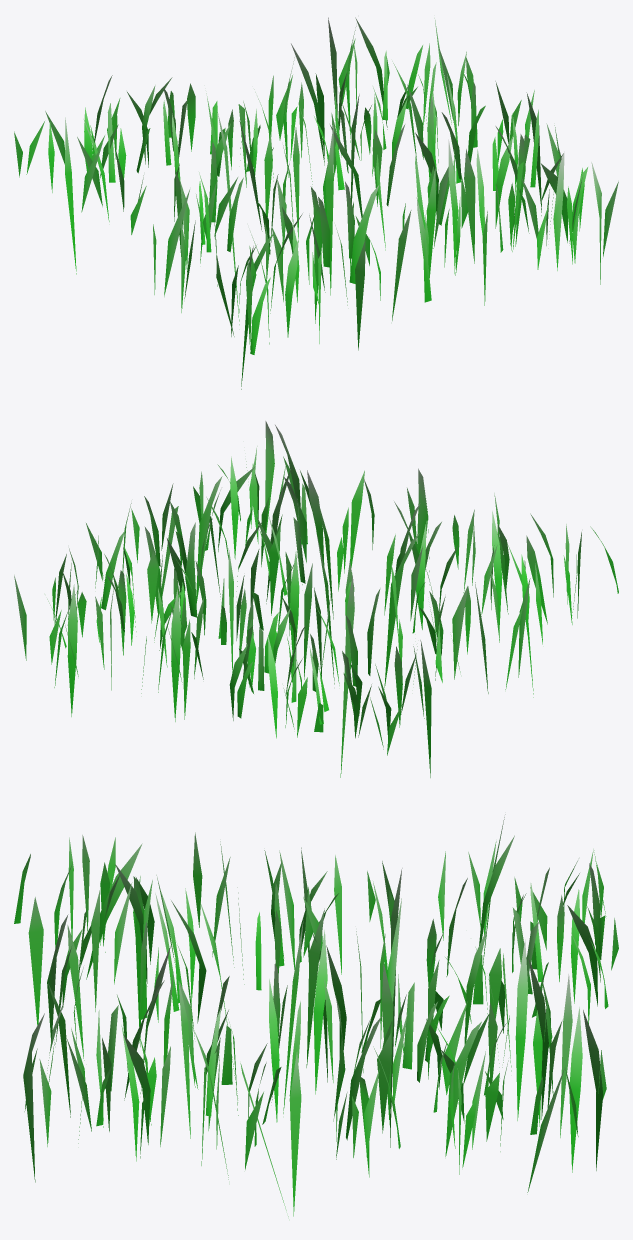
Rendered from grass.fbx.
The picture shows the model from 3 angles, top to bottom: view 1: azimuth 30°, elevation 25°; view 2: azimuth 150°, elevation 25°; view 3: azimuth 270°, elevation 25°; orthographic projection. The views are drawn at different scales.
Parts seen in each view (by area): view 1: grass; view 2: grass; view 3: grass.
Boxes of the visible parts, <box> form: grass: <box>14,17,618,389</box>; grass: <box>14,421,618,777</box>; grass: <box>14,814,618,1216</box>.
Size of the model in its own units: 348 by 178 by 343.
